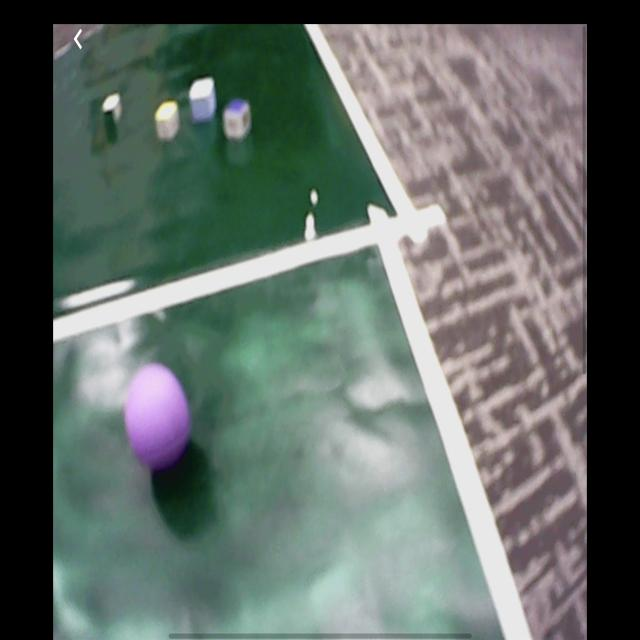ball: (125, 366, 192, 470)
